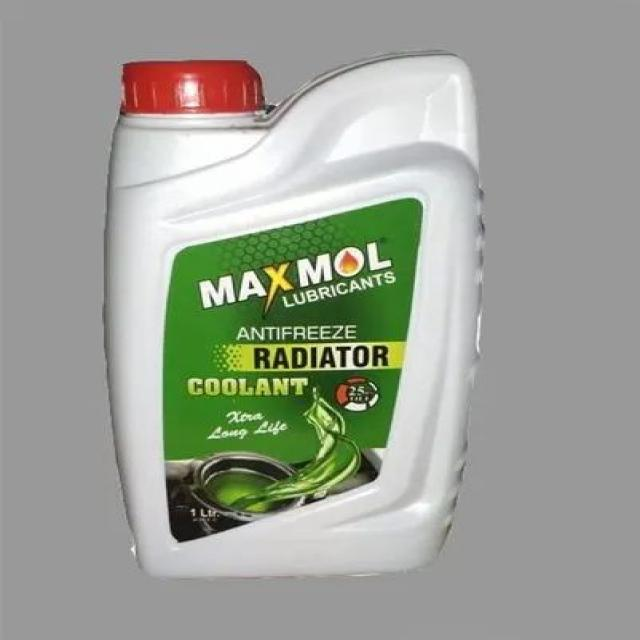coolant: (96, 42, 498, 584)
